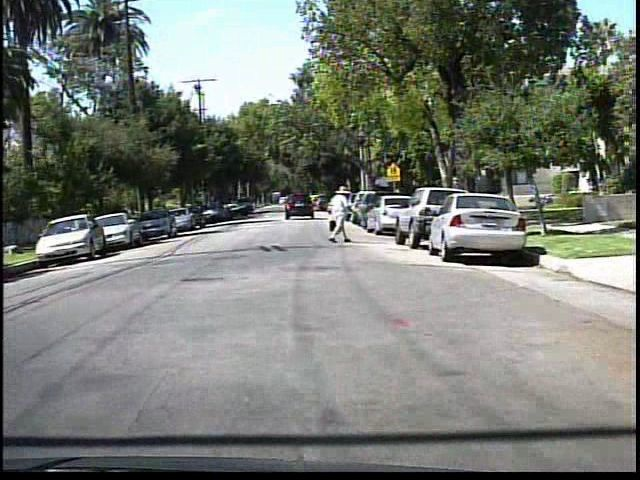person: (325, 184, 357, 245)
